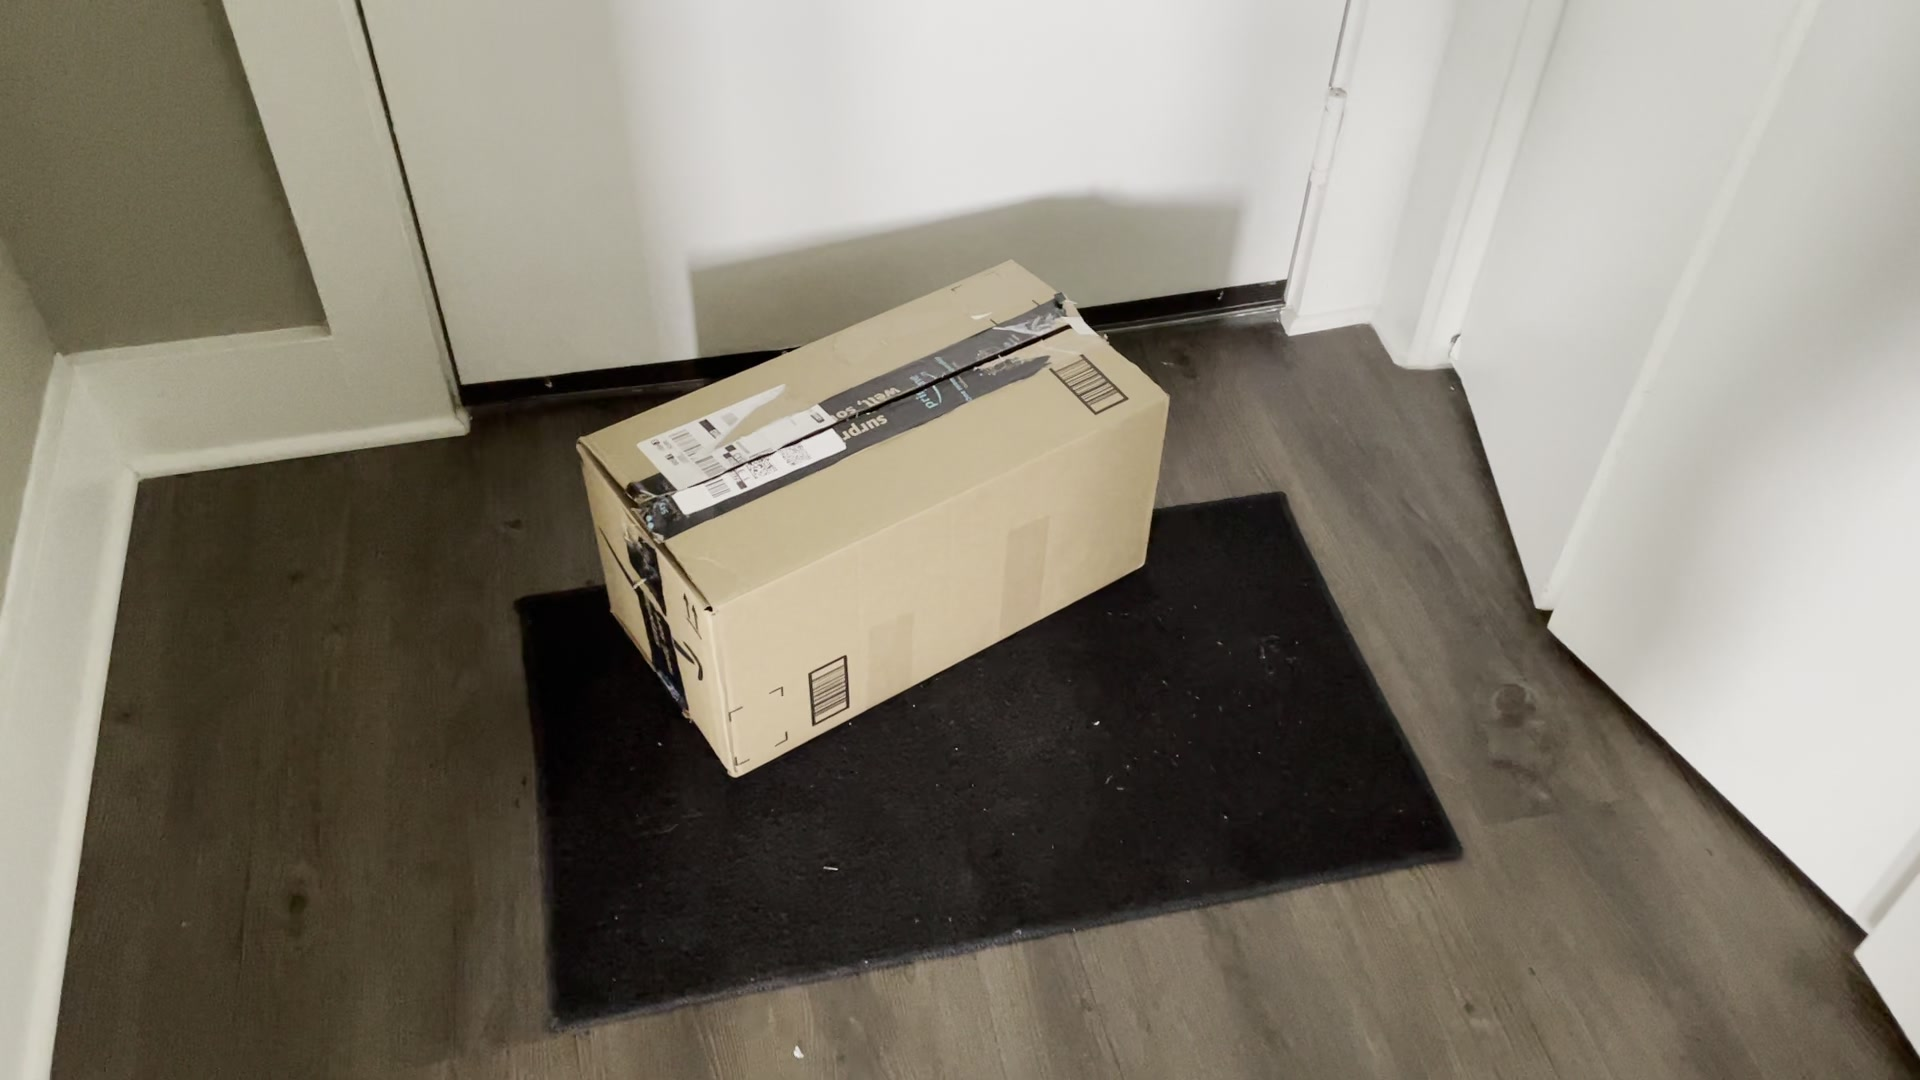box: (551, 248, 1195, 785)
